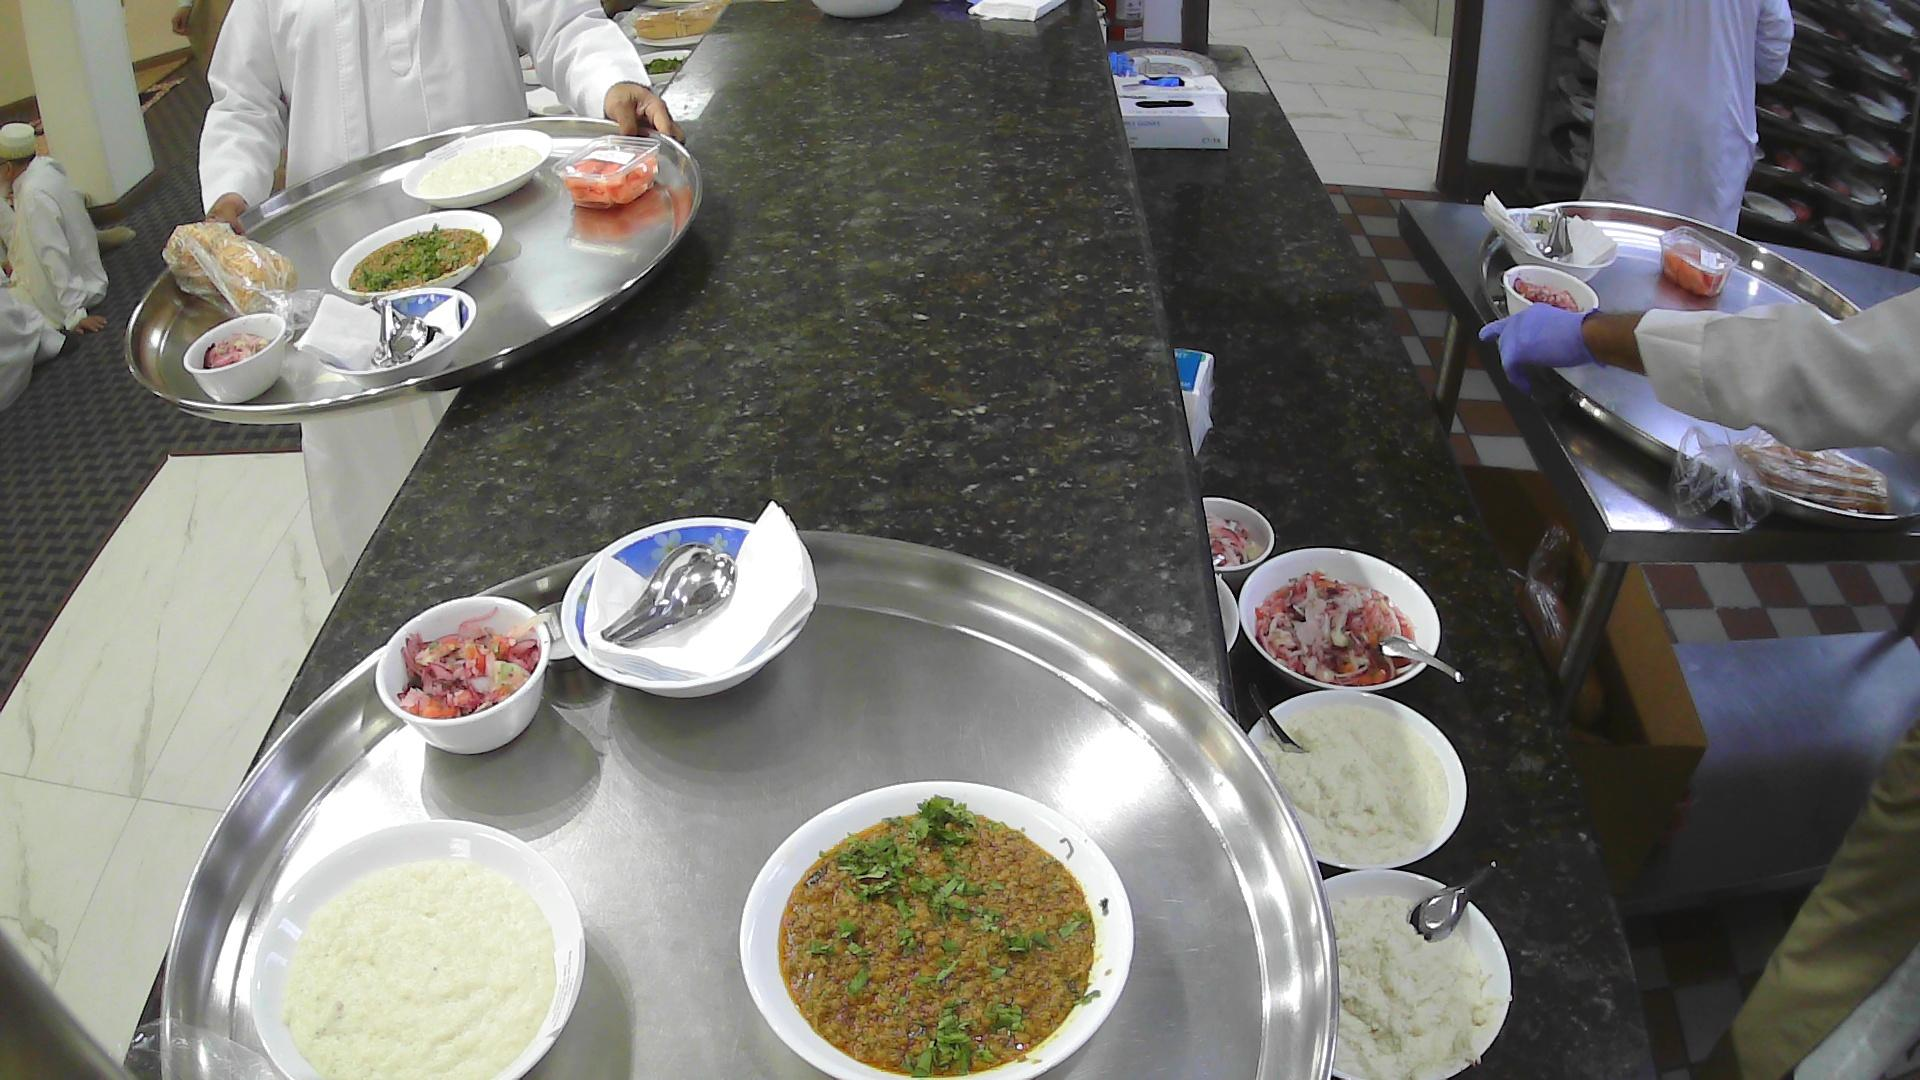thaal: (153, 524, 1342, 1080), (123, 115, 707, 426), (1476, 199, 1920, 533)
